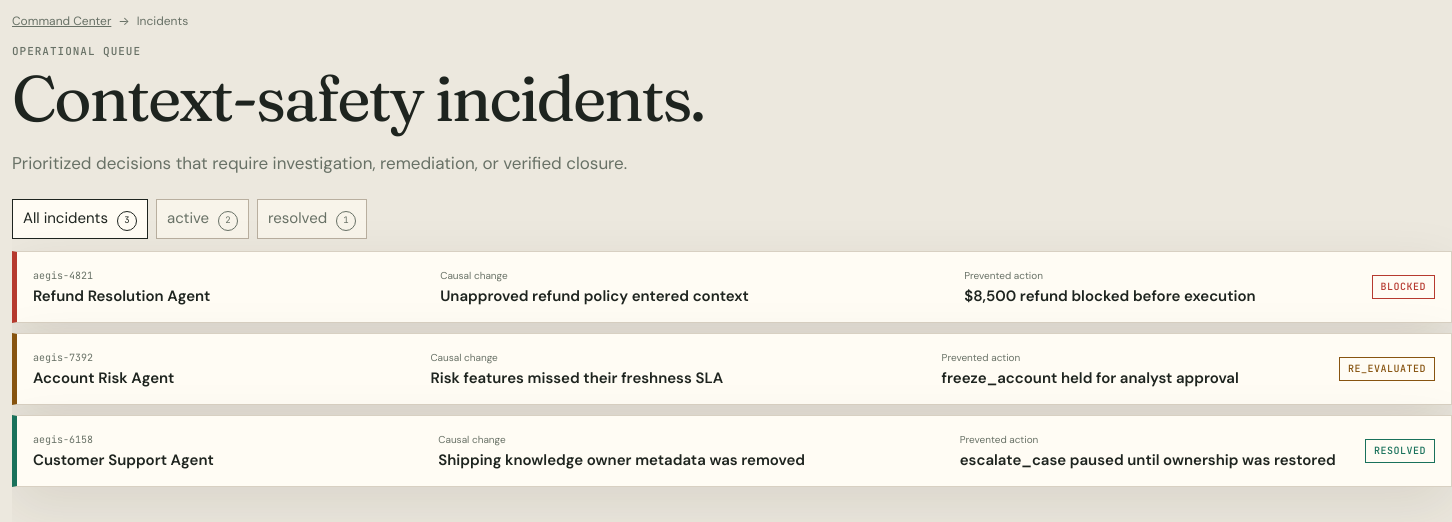
Scenario: IncidentQueuePage › filters the queue without hiding incident history by default
The width and height of the screenshot is (1452, 522).
Click the button "resolved 1" at (312, 219), box top-left (257, 199), bottom-right (367, 239)
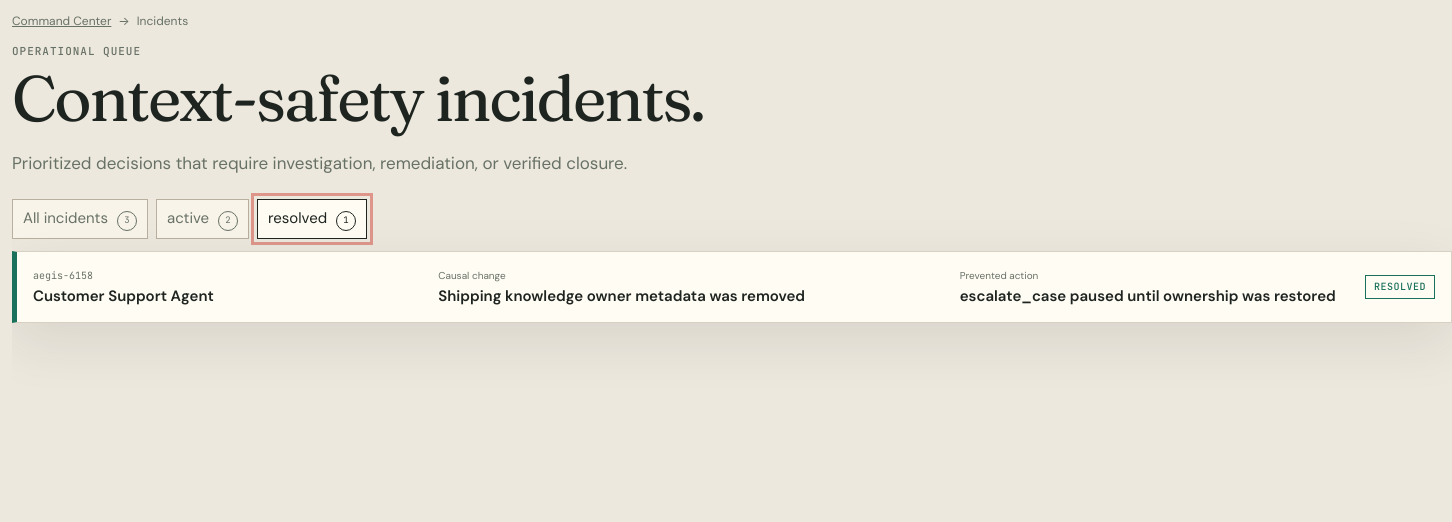
Check: the text "Customer Support Agent" is shown, box top-left (33, 286), bottom-right (214, 306)
Check: the link "Refund Resolution Agent" is gone
Click the button "active 2" at (203, 219), box top-left (156, 199), bottom-right (249, 239)
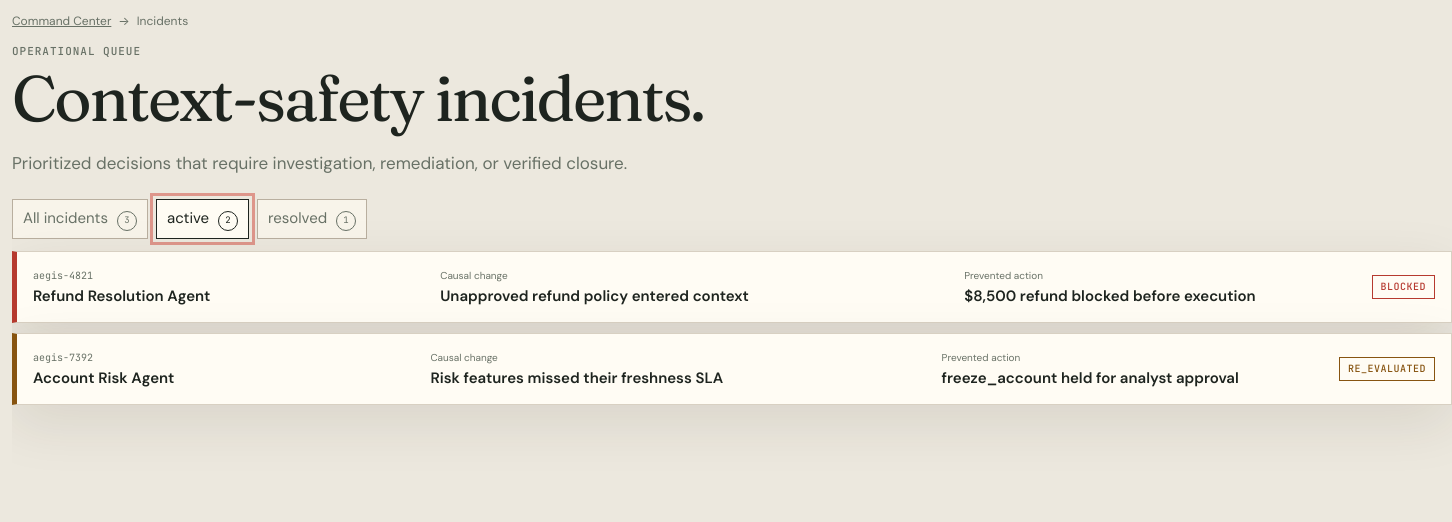
Check: the text "Refund Resolution Agent" is shown, box top-left (33, 286), bottom-right (210, 306)
Check: the text "Account Risk Agent" is shown, box top-left (33, 368), bottom-right (174, 388)
